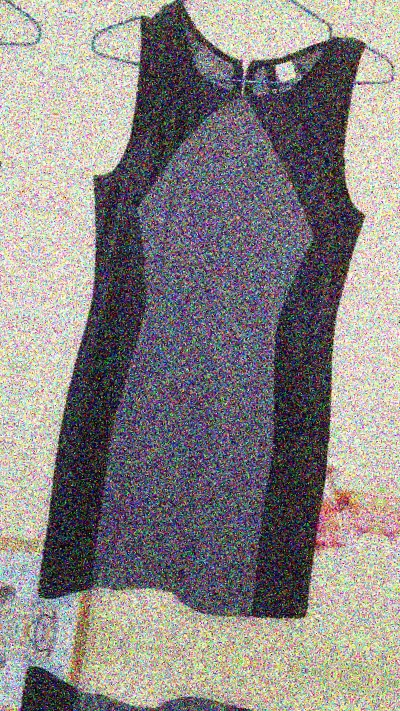Dress: (0, 0, 400, 644), (0, 0, 62, 593), (0, 656, 321, 711), (390, 29, 400, 701), (92, 0, 400, 8)
